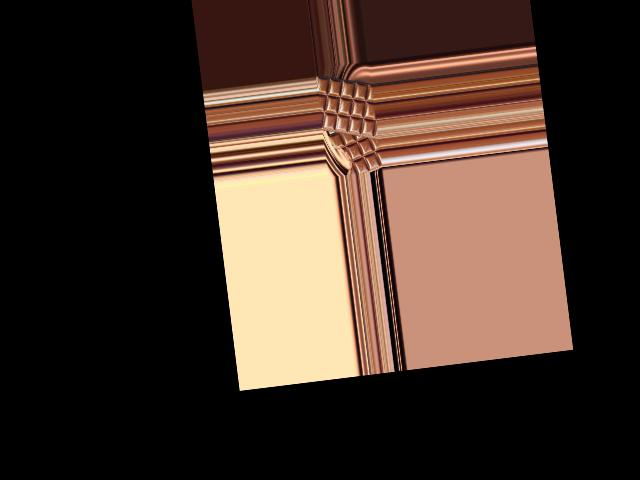chocolate: (316, 67, 379, 146)
